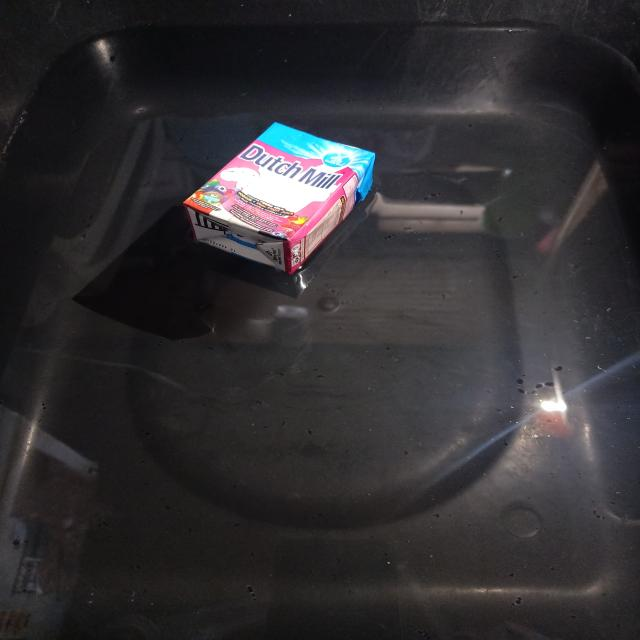Cardboard Box: (183, 122, 375, 274)
